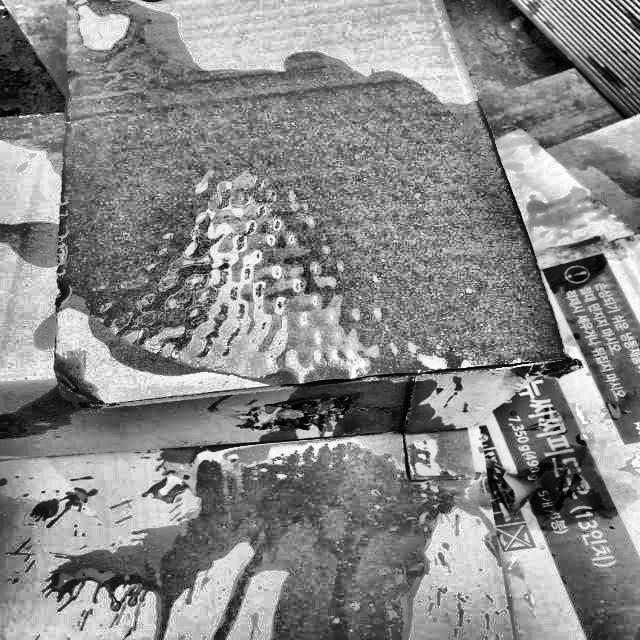box: (0, 0, 584, 464)
wet: (63, 0, 536, 401)
